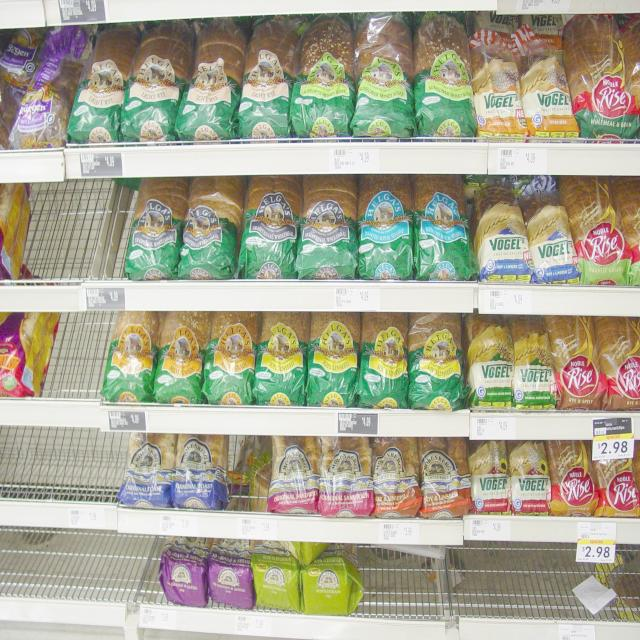empty_space: (376, 557, 560, 615), (0, 550, 151, 603), (6, 430, 116, 493), (27, 193, 115, 267), (59, 331, 99, 392), (626, 565, 640, 615)
